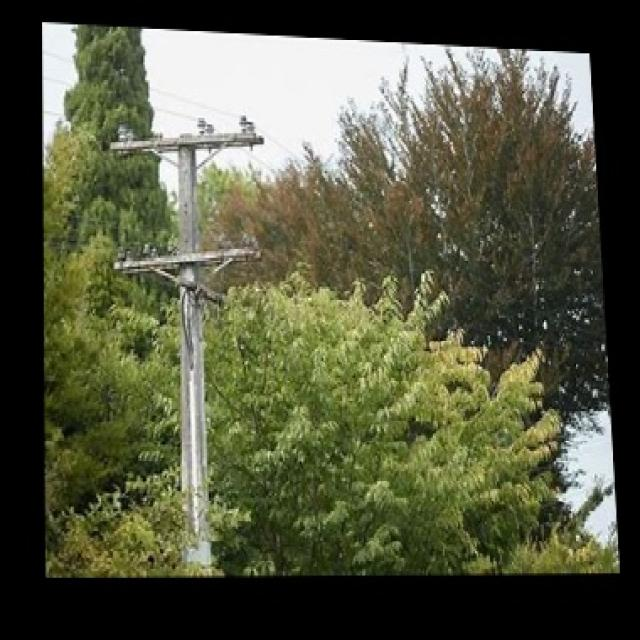utility poles: (106, 104, 301, 564)
